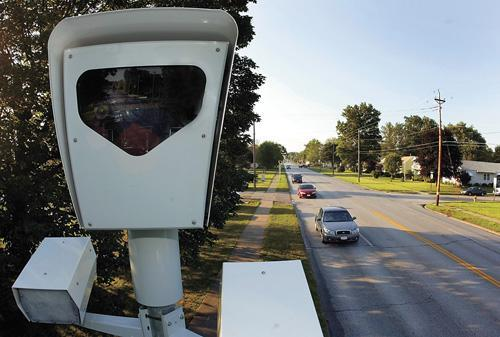Monitor: (47, 6, 238, 232)
